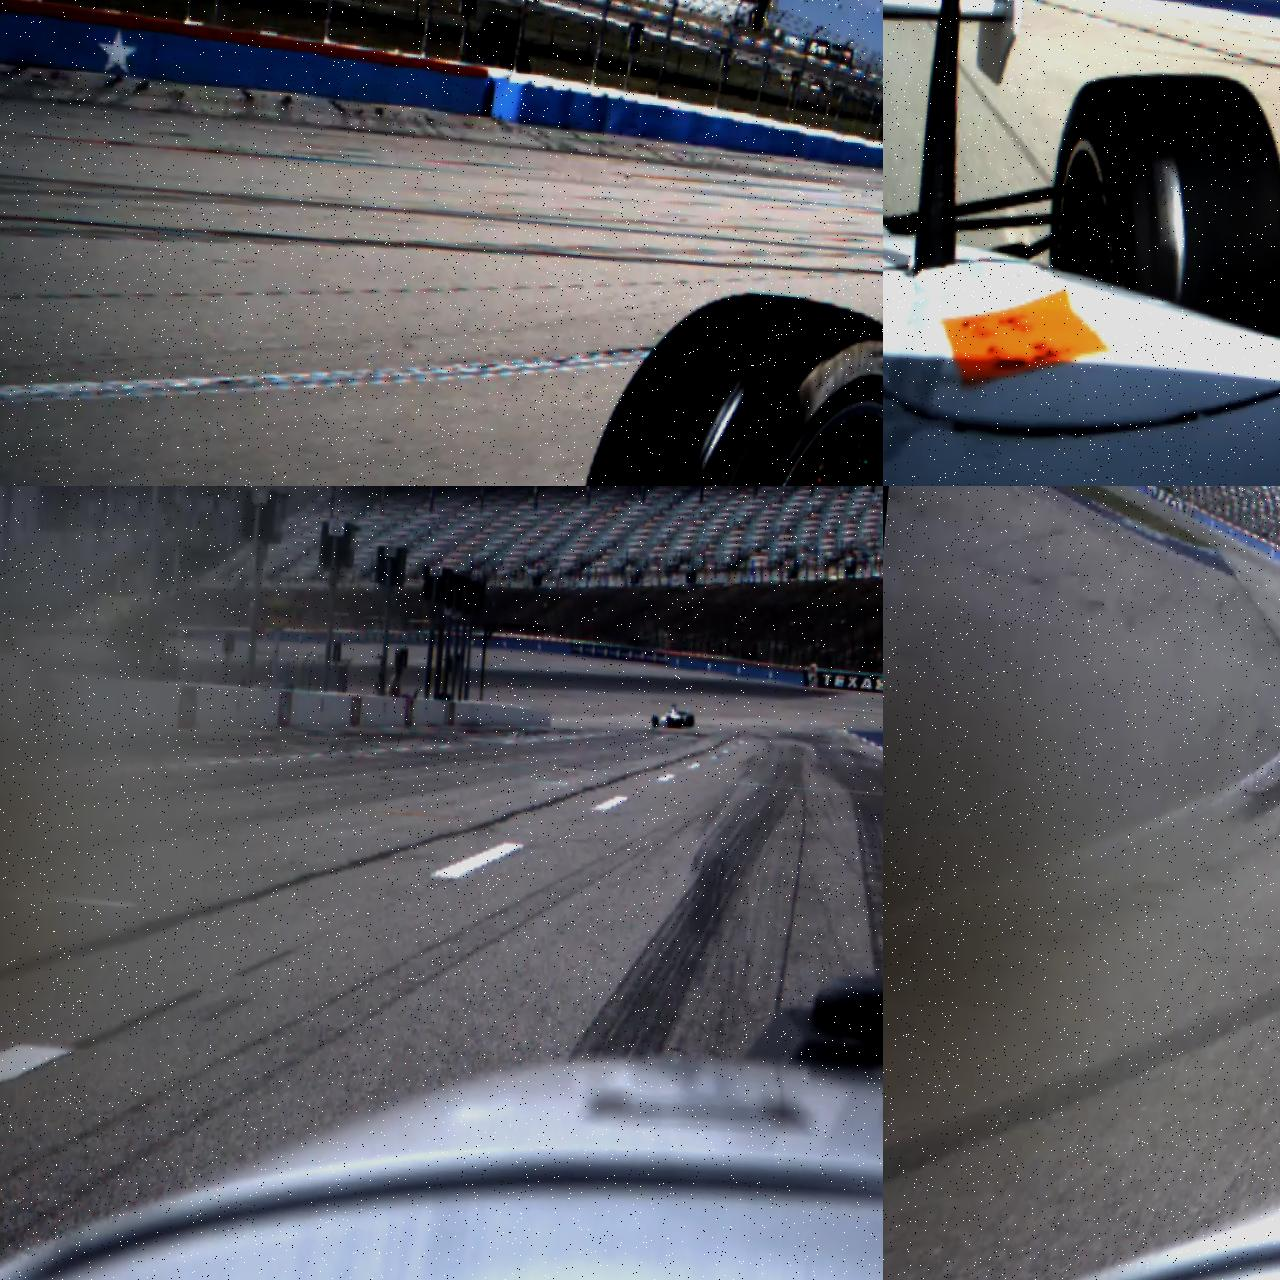AV: (650, 701, 696, 731)
Wheel: (553, 277, 883, 486), (1041, 60, 1280, 340), (686, 715, 694, 727), (652, 716, 658, 728), (666, 716, 672, 728)
